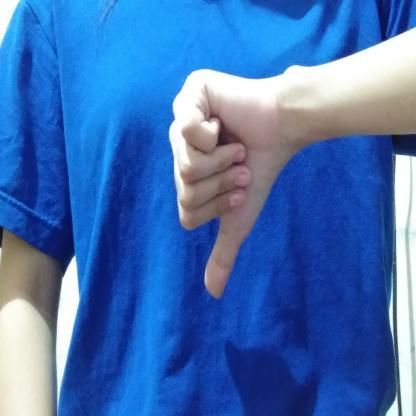no: (156, 63, 302, 306)
